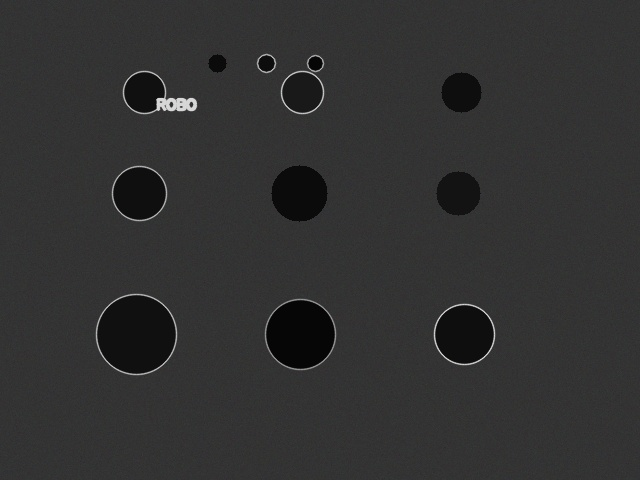hole: (96, 294, 176, 374), (265, 299, 335, 369), (434, 304, 494, 364), (271, 165, 327, 221), (112, 166, 166, 220), (436, 171, 480, 215), (123, 71, 165, 113), (281, 71, 323, 113), (441, 72, 481, 112), (208, 54, 226, 72), (257, 54, 275, 72), (307, 55, 323, 71)
